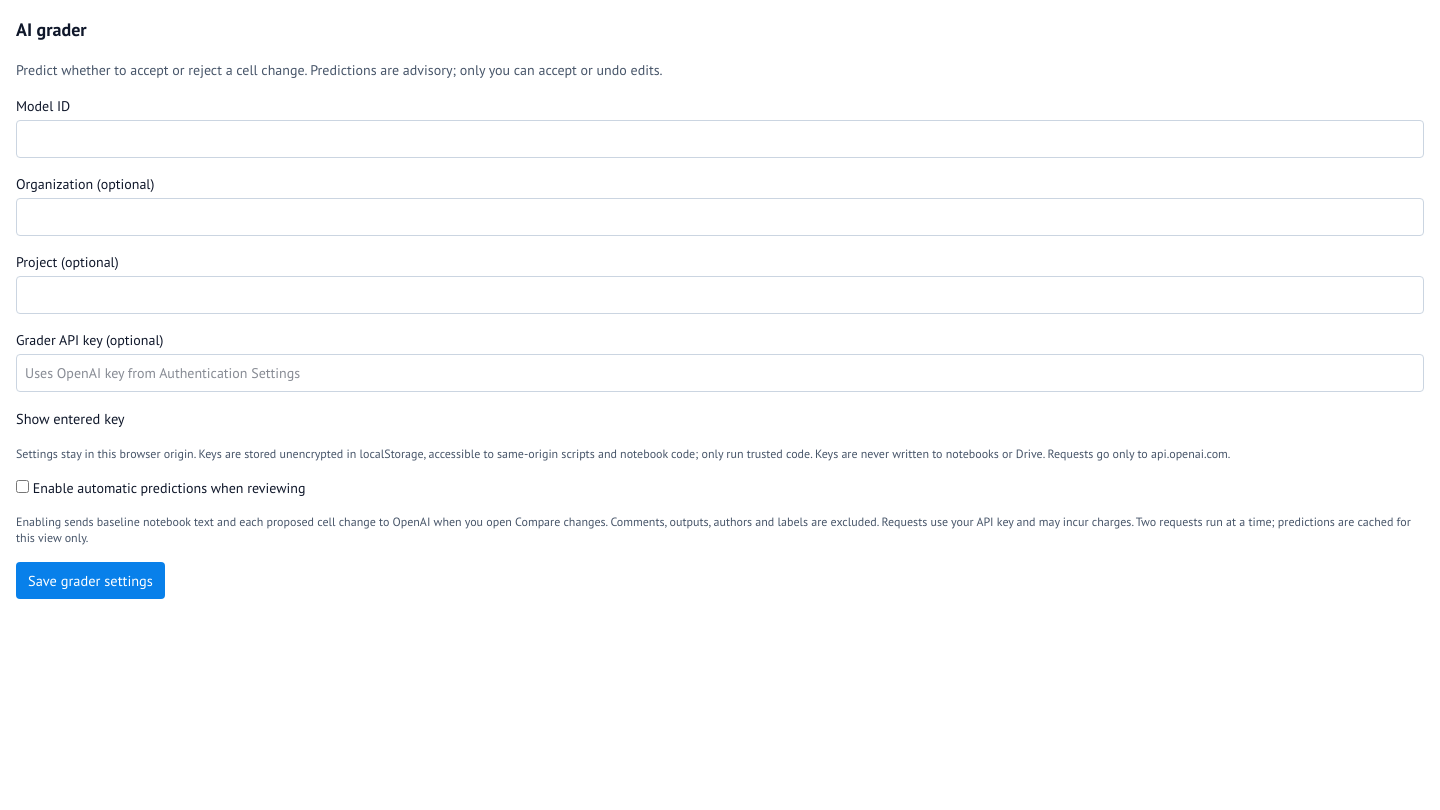
Test: requires an explicit save and enable; masks and clears the key draft
The width and height of the screenshot is (1440, 810).
Type "ft:test" into the field labelled "Model ID" at (720, 139), box [16,120,1424,158]
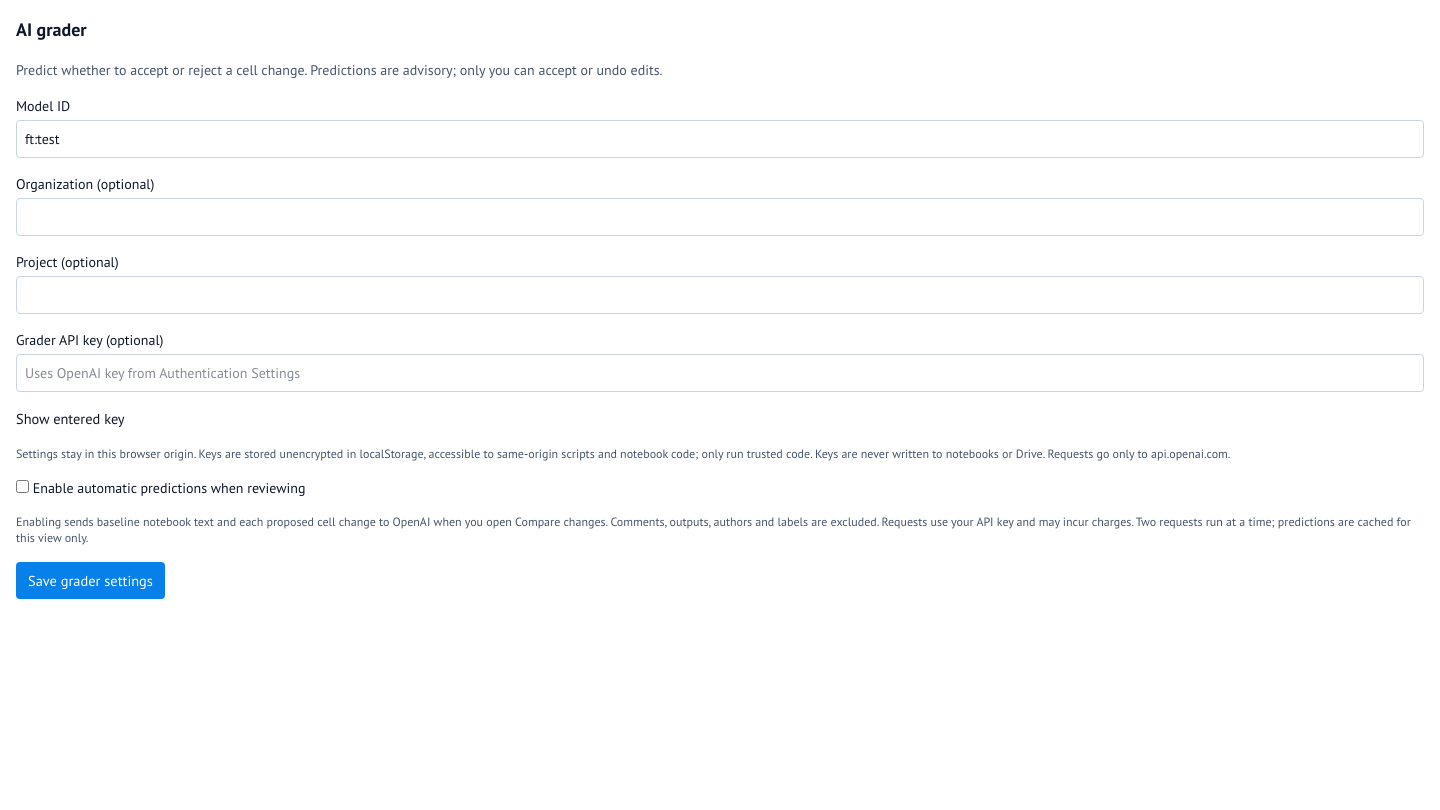
Type "test-secret" into the password field labelled "Grader API key (optional)" at (720, 373), box [16,354,1424,392]
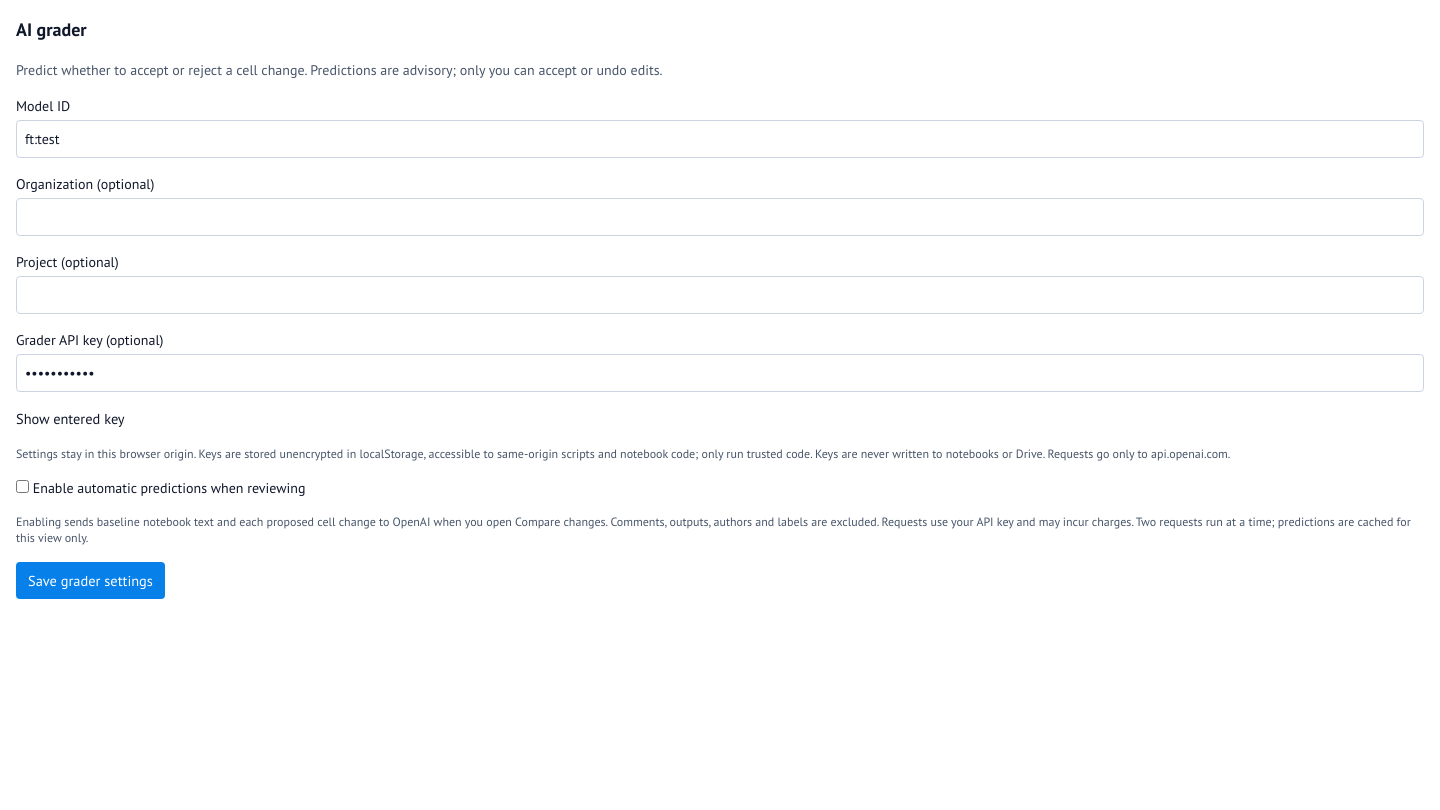
Click the checkbox labelled "Enable automatic predictions when reviewing" at (22, 486), box [16,480,29,493]
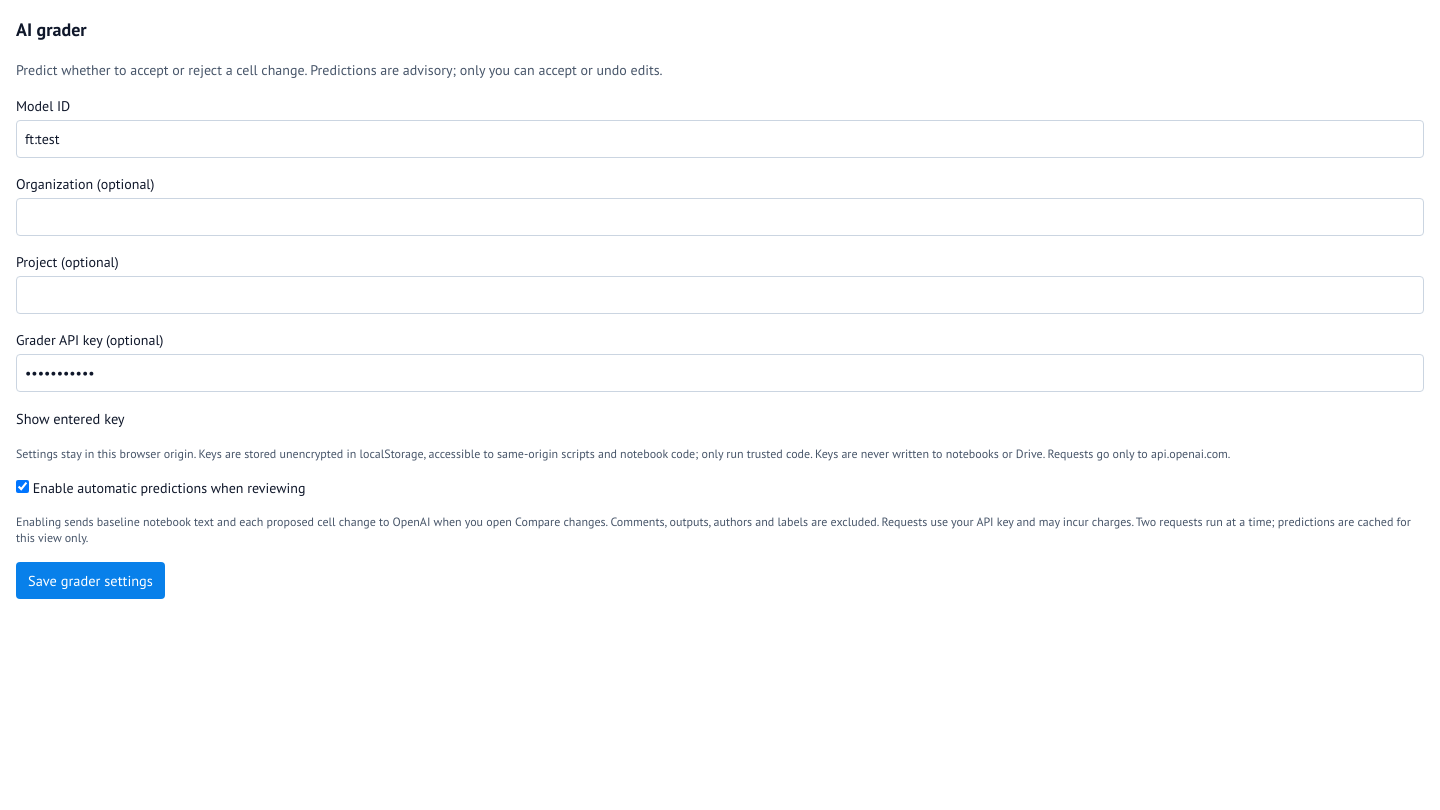
Click the button "Save grader settings" at (90, 580), box [16,562,165,599]
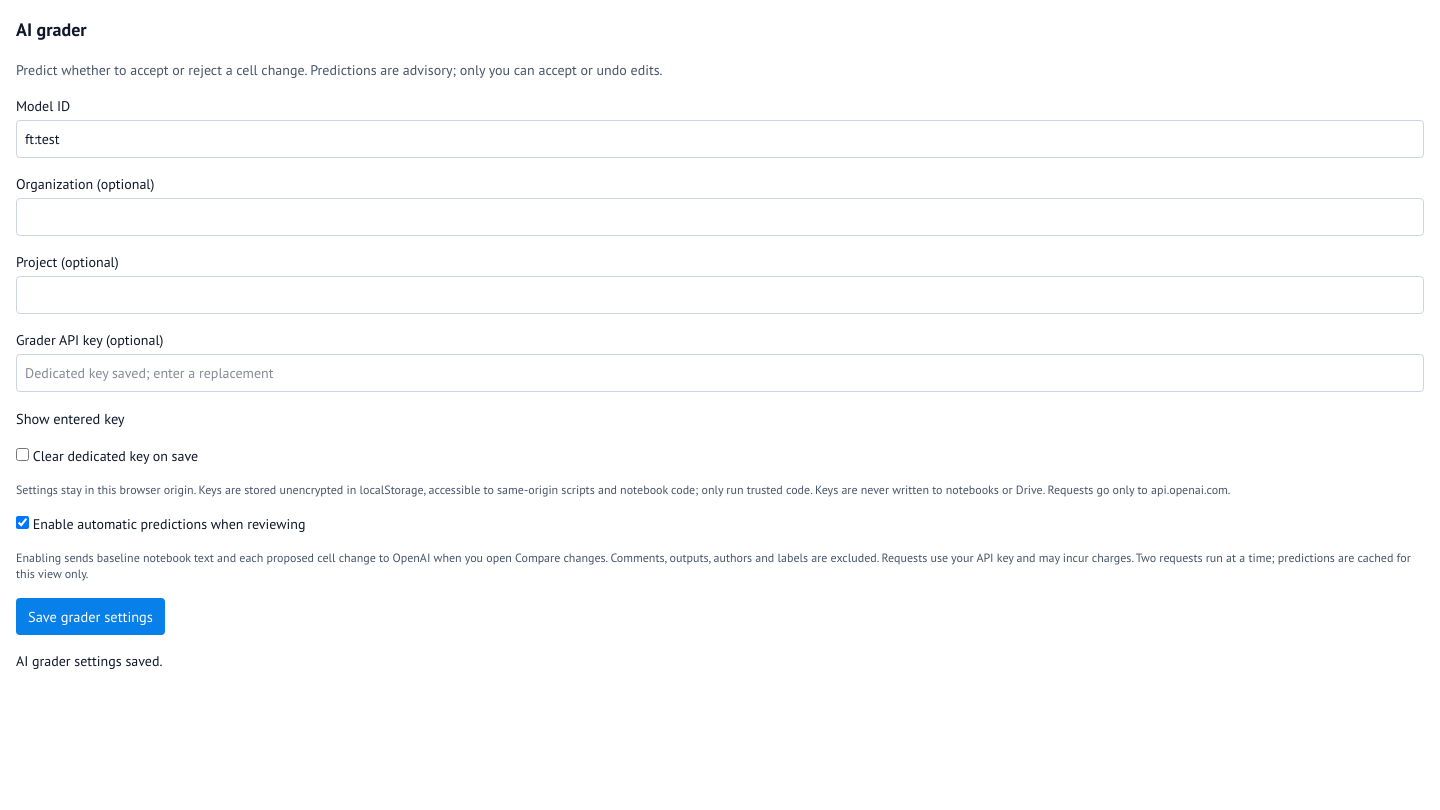
Check: the password field labelled "Grader API key (optional)" is empty, box [16,354,1424,392]
Check: the message reads "AI grader settings saved.", box [16,652,162,670]
